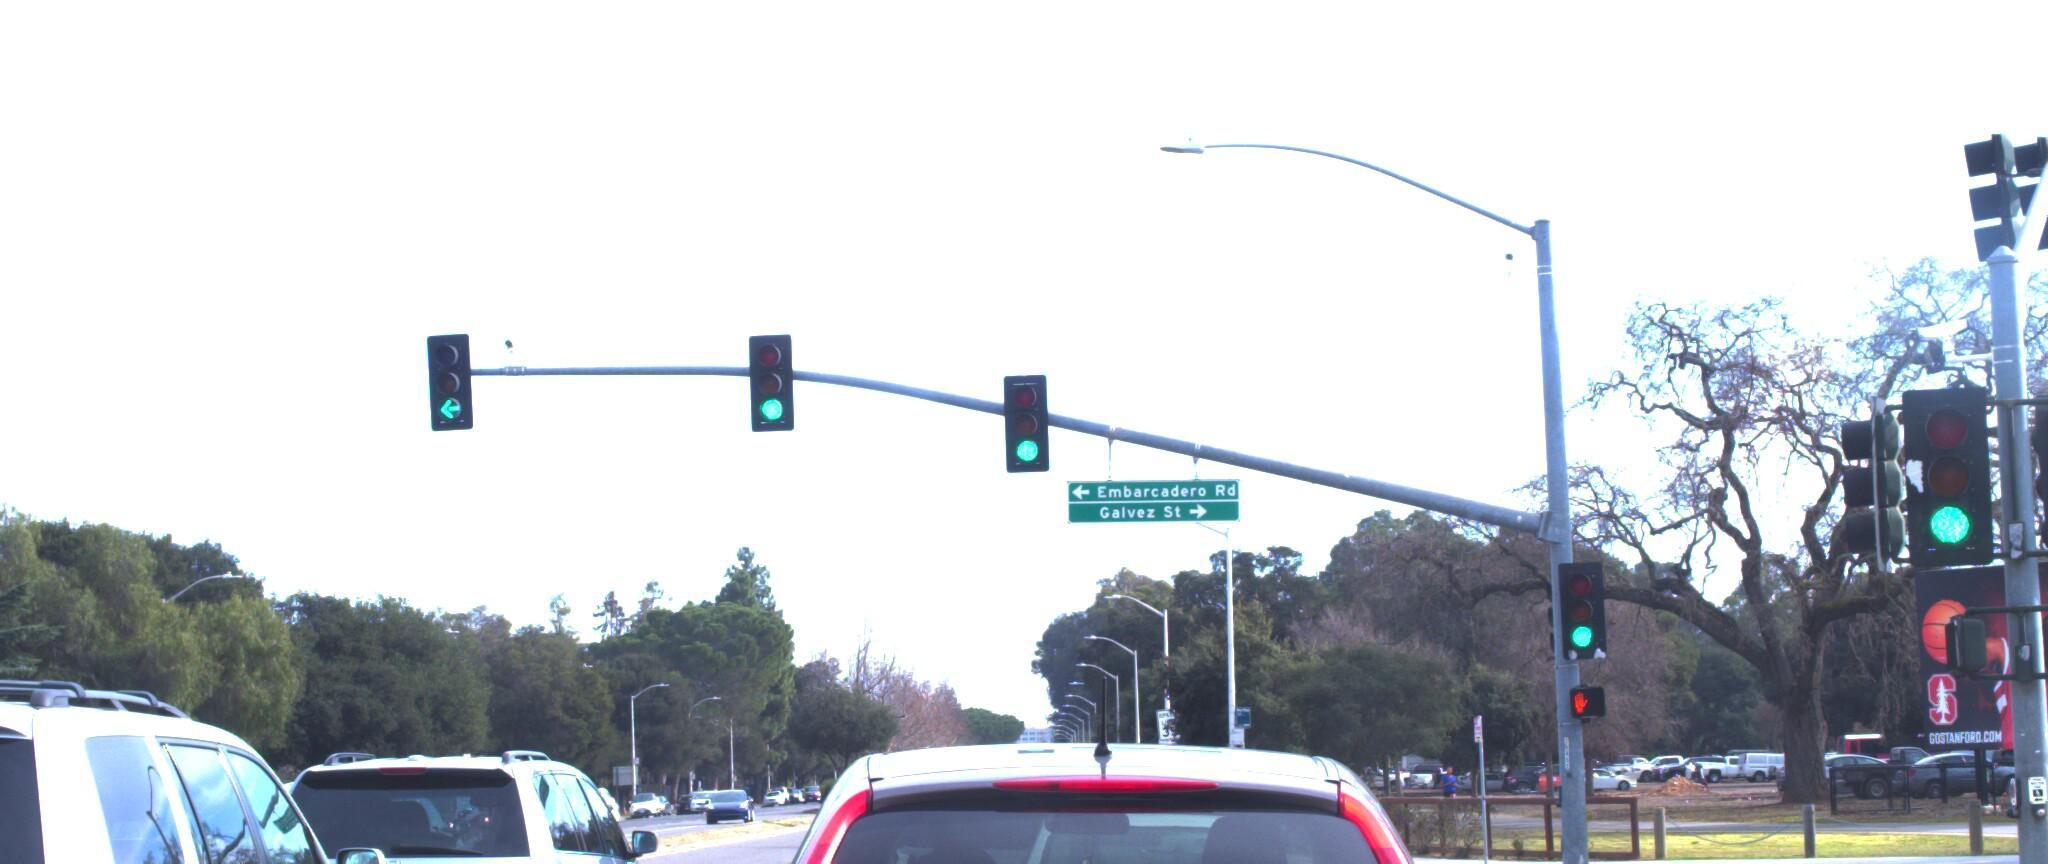car: (618, 671, 1633, 864), (0, 630, 445, 864), (204, 719, 678, 864), (2000, 753, 2048, 864)
